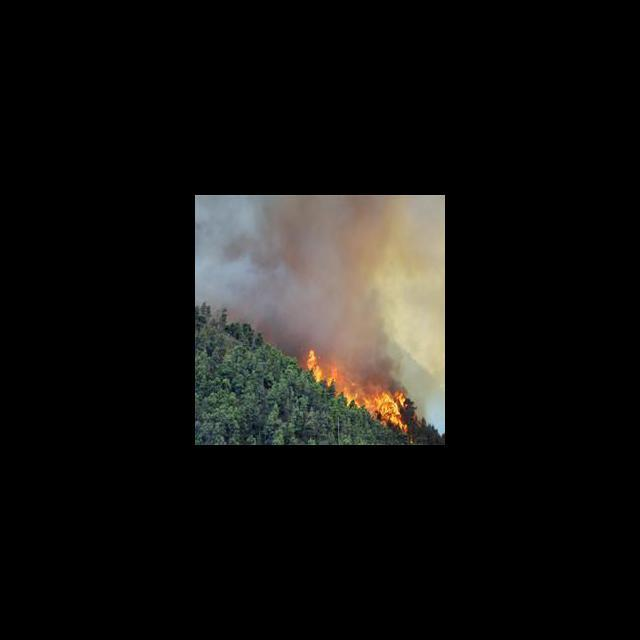Fire: (307, 350, 410, 430)
Smoke: (212, 198, 420, 344)
